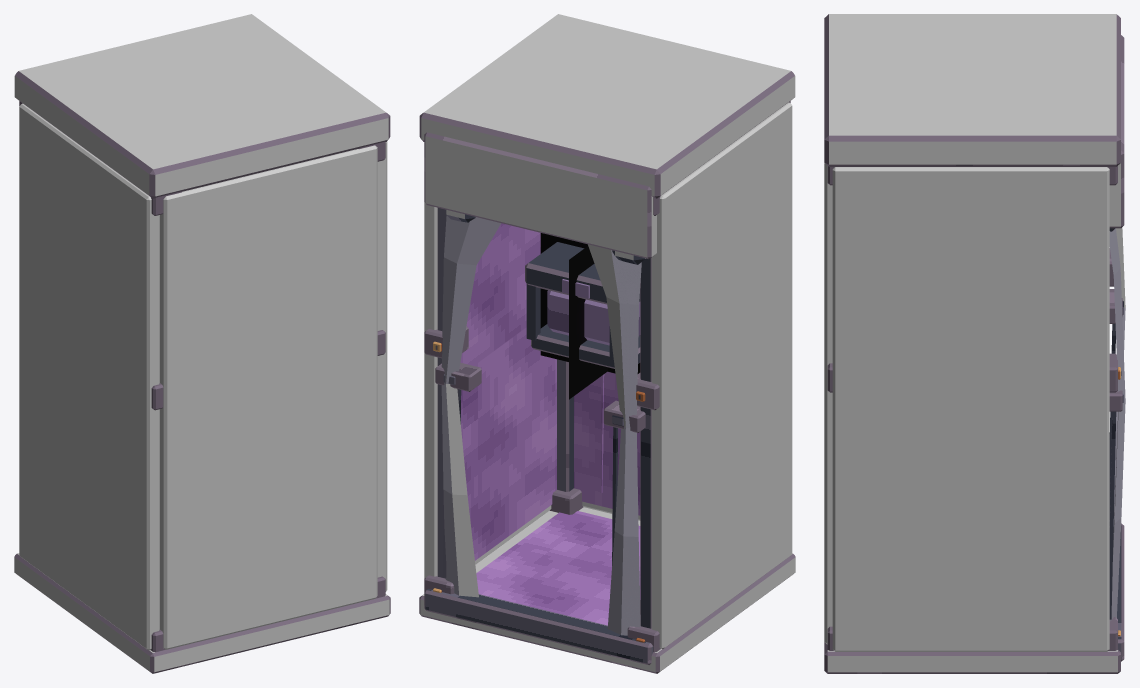
The model's file is tent_1.obj.
3 renders of one model, left to right at view 1: azimuth 30°, elevation 25°; view 2: azimuth 150°, elevation 25°; view 3: azimuth 270°, elevation 25°, orthographic. The views are drawn at different scales.
Parts seen in each view (by area): view 1: model; view 2: model; view 3: model.
Boxes of the visible parts, <box> form: model: <box>14,14,390,673</box>; model: <box>419,14,795,673</box>; model: <box>824,14,1125,673</box>.
Bounding box in the file's own units: 1.12 × 2.25 × 1.14.
